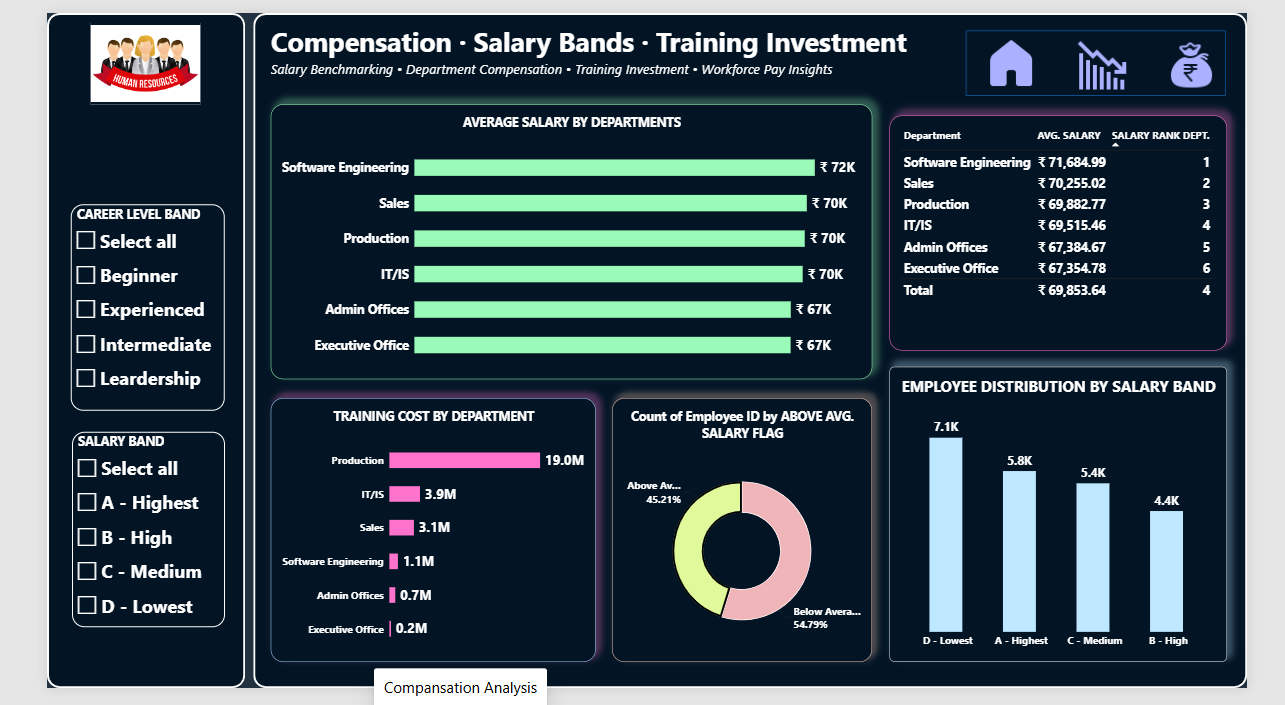

The dashboard page shown, as its layout file describes it:
{"tool":"powerbi","page":{"name":"Compansation Analysis","canvas":[1920,1080],"ordinal":3},"visuals":[{"type":"shape","box":[330,0,1590,1080],"z":0},{"type":"shape","box":[0,0,317,1080],"z":1000},{"type":"clusteredBarChart","title":"AVERAGE SALARY BY DEPARTMENTS","fields":{"Category":["EmployeeMaster.DepartmentType"],"Y":["All_Measures.AVG. SALARY"]},"box":[358,146,962,440],"z":2000},{"type":"tableEx","fields":{"Values":["EmployeeMaster.DepartmentType","All_Measures.AVG. SALARY","All_Measures.SALARY RANK DEPT."]},"box":[1348,164,540,376],"z":3000},{"type":"donutChart","fields":{"Category":["EmployeeMaster.ABOVE AVG. SALARY FLAG"],"Y":["CountNonNull(EmployeeMaster.Employee ID)"]},"box":[904,616,416,422],"z":4000},{"type":"clusteredBarChart","title":"TRAINING COST BY DEPARTMENT","fields":{"Y":["All_Measures.TOTAL TRAINING COSTX"],"Category":["EmployeeMaster.DepartmentType"]},"box":[358,616,520,422],"z":5000},{"type":"slicer","fields":{"Values":["EmployeeMaster.CAREER LEVEL BAND"]},"box":[38,306,246,330],"z":6000},{"type":"slicer","fields":{"Values":["EmployeeMaster.SALARY BAND"]},"box":[40,670,245,312.5],"z":7000},{"type":"image","box":[70,16,175,130],"z":8000},{"type":"textbox","box":[358,16,1040,66],"z":9000},{"type":"textbox","box":[357.9,73.6,916.4,37.1],"z":10000},{"type":"columnChart","title":"EMPLOYEE DISTRIBUTION BY SALARY BAND","fields":{"Category":["EmployeeMaster.SALARY BAND"],"Y":["All_Measures.ACTIVE FEMALE EMPLOYEE"]},"box":[1348,566,540,472],"z":11000},{"type":"shape","box":[1469.1,28.6,416.2,104.6],"z":12000},{"type":"image","box":[1485,36.7,113.3,90],"z":13000},{"type":"image","box":[1633.3,43.3,106.7,78.3],"z":14000},{"type":"image","box":[1775,43.3,110,78.3],"z":15000}]}

Visuals, with their boxes in screenshot pixels (x1, y1, x2, y2), scaled from the page's 1920x1080 canvas onto the 1285x705 screenshot:
shape: x1=221 y1=0 x2=1284 y2=704
shape: x1=0 y1=0 x2=212 y2=704
"AVERAGE SALARY BY DEPARTMENTS" clusteredBarChart: x1=240 y1=95 x2=883 y2=383
tableEx - EmployeeMaster.DepartmentType x All_Measures.AVG. SALARY: x1=902 y1=107 x2=1264 y2=352
donutChart - EmployeeMaster.ABOVE AVG. SALARY FLAG x CountNonNull(EmployeeMaster.Employee ID): x1=605 y1=402 x2=883 y2=678
"TRAINING COST BY DEPARTMENT" clusteredBarChart: x1=240 y1=402 x2=588 y2=678
slicer - EmployeeMaster.CAREER LEVEL BAND: x1=25 y1=200 x2=190 y2=415
slicer - EmployeeMaster.SALARY BAND: x1=27 y1=437 x2=191 y2=641
image: x1=47 y1=10 x2=164 y2=95
textbox: x1=240 y1=10 x2=936 y2=54
textbox: x1=240 y1=48 x2=853 y2=72
"EMPLOYEE DISTRIBUTION BY SALARY BAND" columnChart: x1=902 y1=369 x2=1264 y2=678
shape: x1=983 y1=19 x2=1262 y2=87
image: x1=994 y1=24 x2=1070 y2=83
image: x1=1093 y1=28 x2=1165 y2=79
image: x1=1188 y1=28 x2=1262 y2=79
